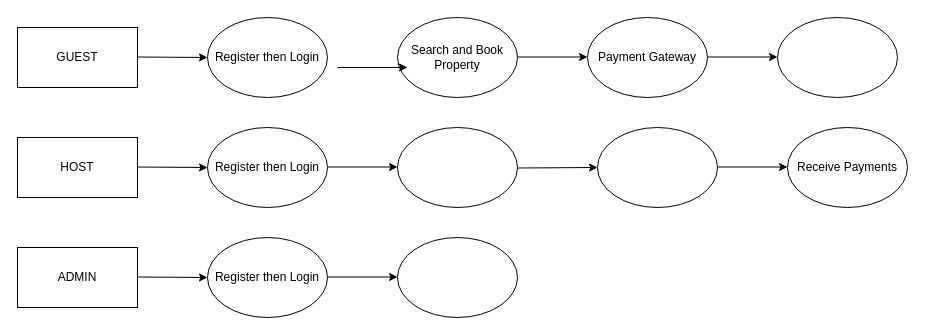
Some shapes in this 925 by 335 pixel diagram are drawn without their labels. The shapes that lost their labels are listed below. From the top down, each one's centre as x and y in pixels, then its label:
the point at 837,57: Leave reviews or message host
the point at 457,167: List Property
the point at 657,167: Reply to messages and reviews
the point at 457,277: Manage property listings, edit properties, manage payment
